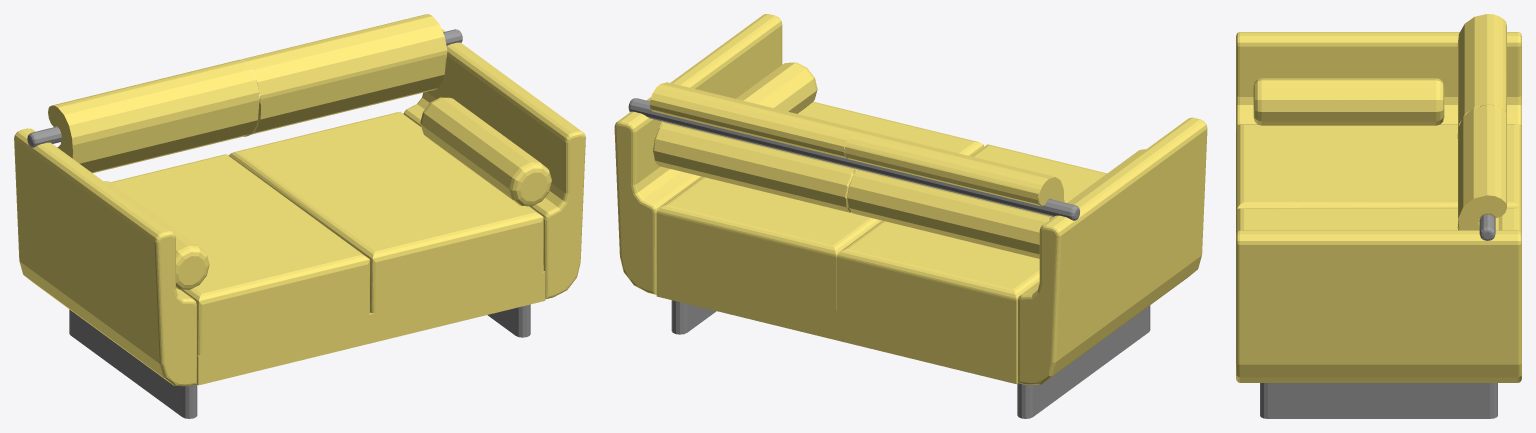
The model's file is loveseat-by-cmht-oculus-4qpQYNSWA7I.glb.
3 views of the same model, side by side, from view 1: azimuth 30°, elevation 25°; view 2: azimuth 150°, elevation 25°; view 3: azimuth 270°, elevation 25° (orthographic). The views are drawn at different scales.
Parts seen in each view (by area): view 1: Node; view 2: Node; view 3: Node.
Boxes of the visible parts, bbox=[...] form: Node: bbox=[14, 14, 585, 418]; Node: bbox=[614, 14, 1207, 418]; Node: bbox=[1236, 14, 1521, 418].
Bounding box in the file's own units: 62.15 × 32 × 36.
